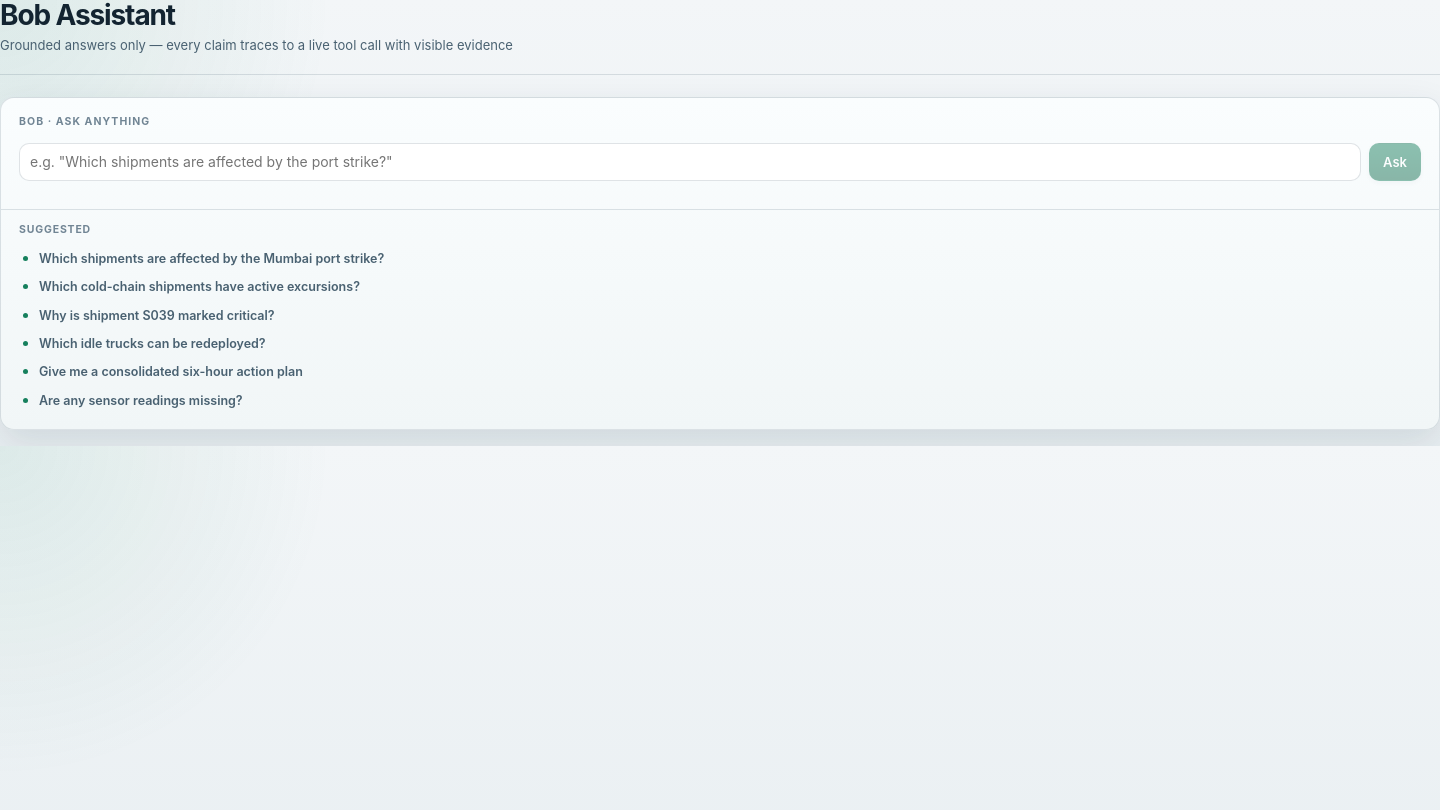
Scenario: Bob chat LLM status › labels the deterministic fallback when the AI answer fails grounding
Type "Which disruptions are active?" into the field with placeholder "e.g. \"Which shipments are affected by the port strike?\"". click: [690, 162]
box: top-left (19, 143), bottom-right (1361, 181)
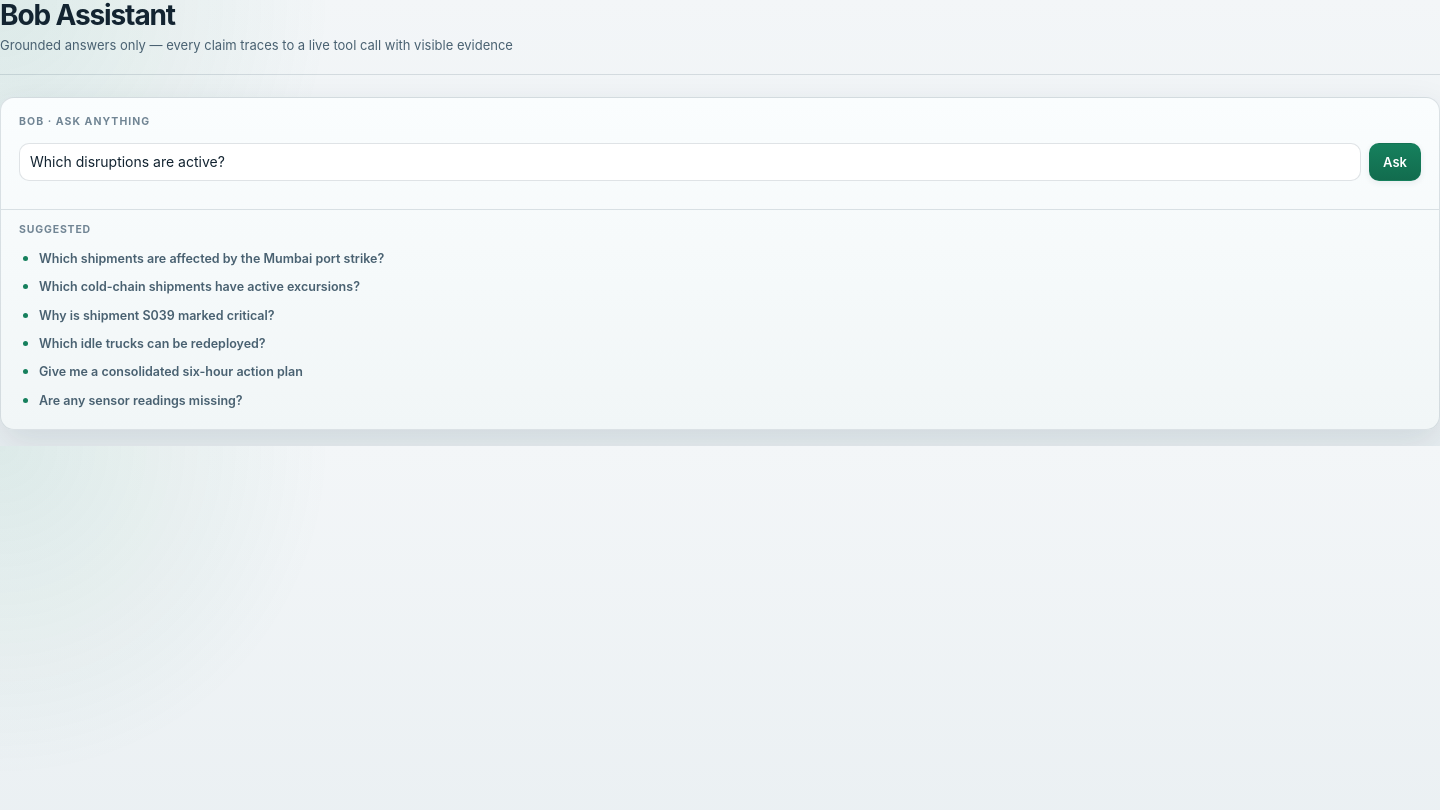
Click the button "Ask". click: [1395, 162]
box: top-left (1369, 143), bottom-right (1421, 181)
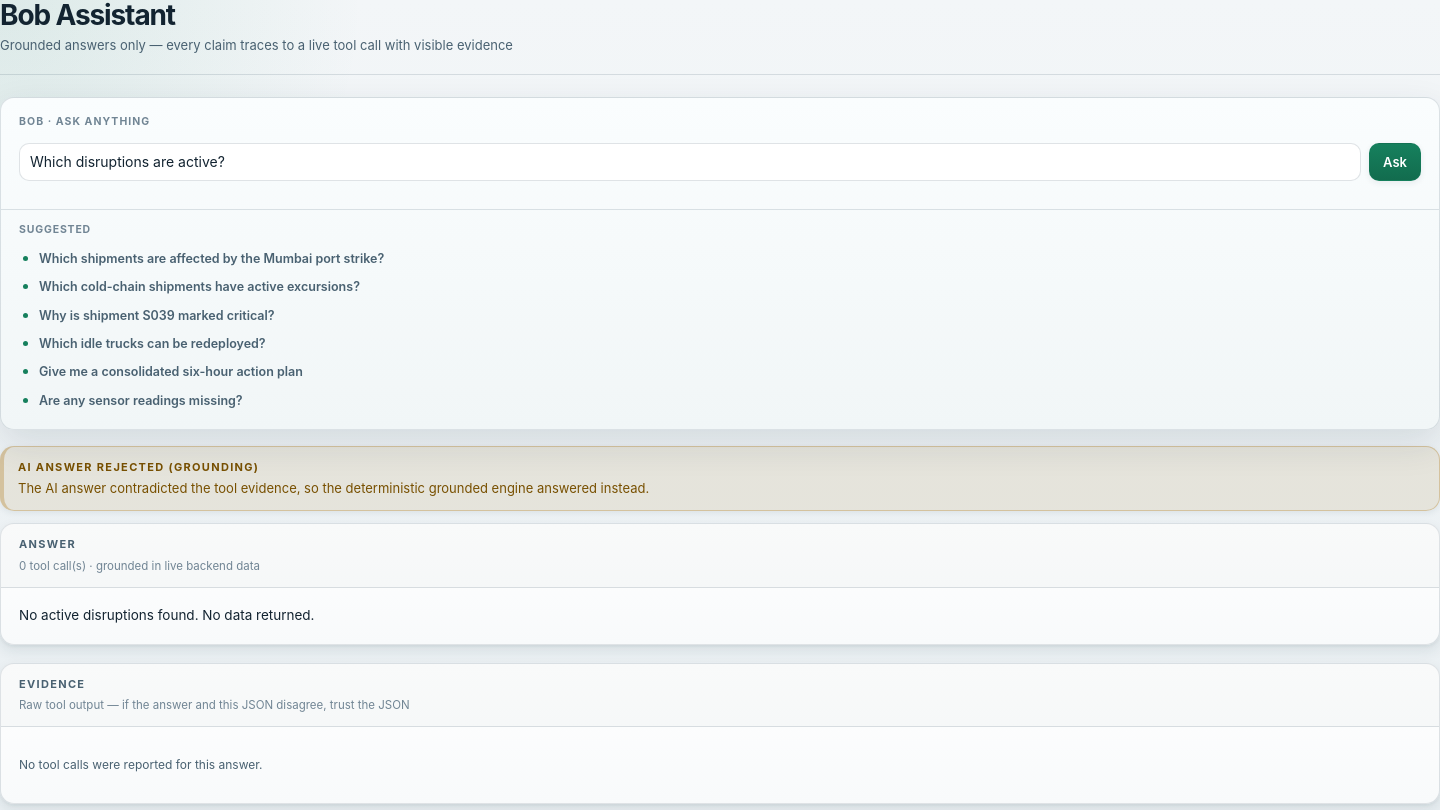
Result: the text "AI answer rejected (grounding)" is shown at top-left (18, 460), bottom-right (259, 474)
Result: the text "deterministic grounded engine answered instead" is shown at top-left (18, 480), bottom-right (649, 496)
